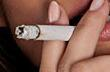smoke: (14, 24, 100, 41)
